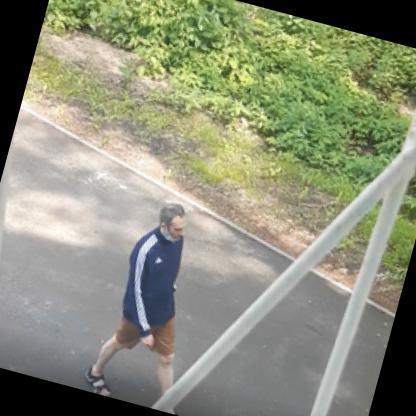Human Body: (69, 185, 245, 415)
